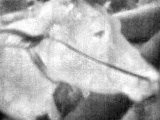eye: (90, 26, 109, 42)
